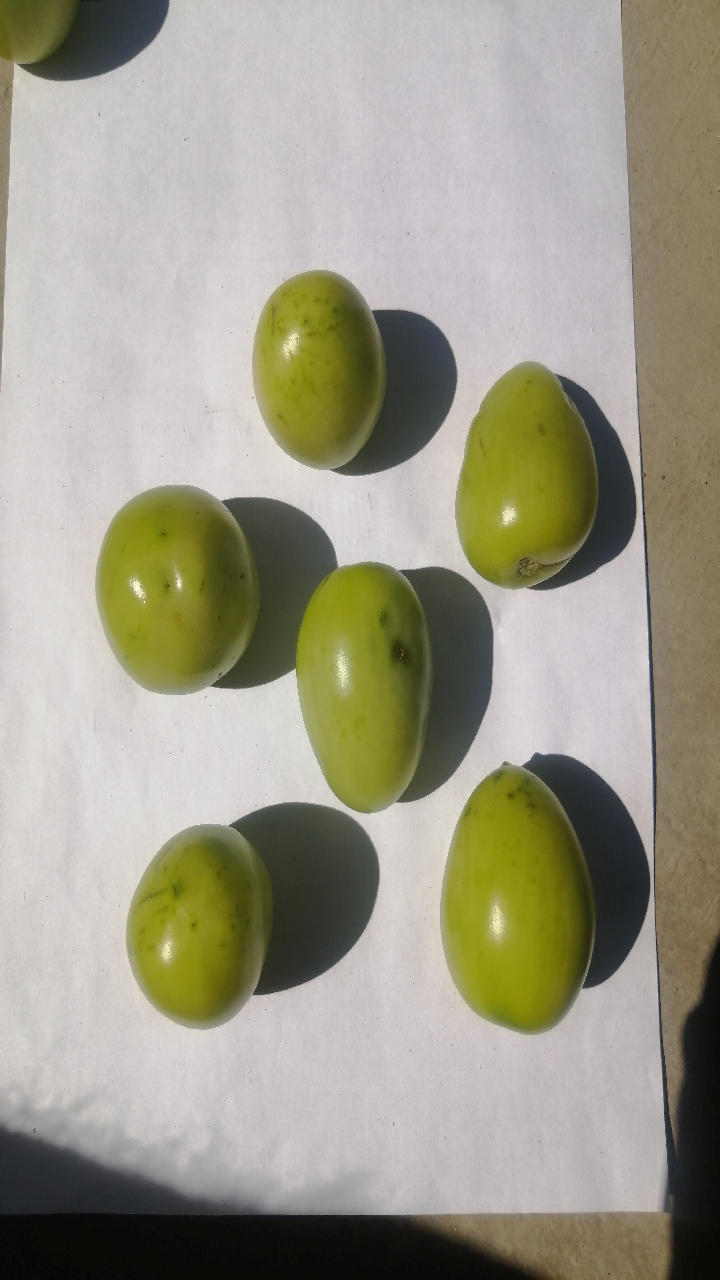tomateVerde: (418, 737, 608, 1052), (112, 797, 297, 1054), (434, 335, 608, 602), (278, 545, 438, 831), (83, 463, 255, 715), (237, 245, 395, 485)
